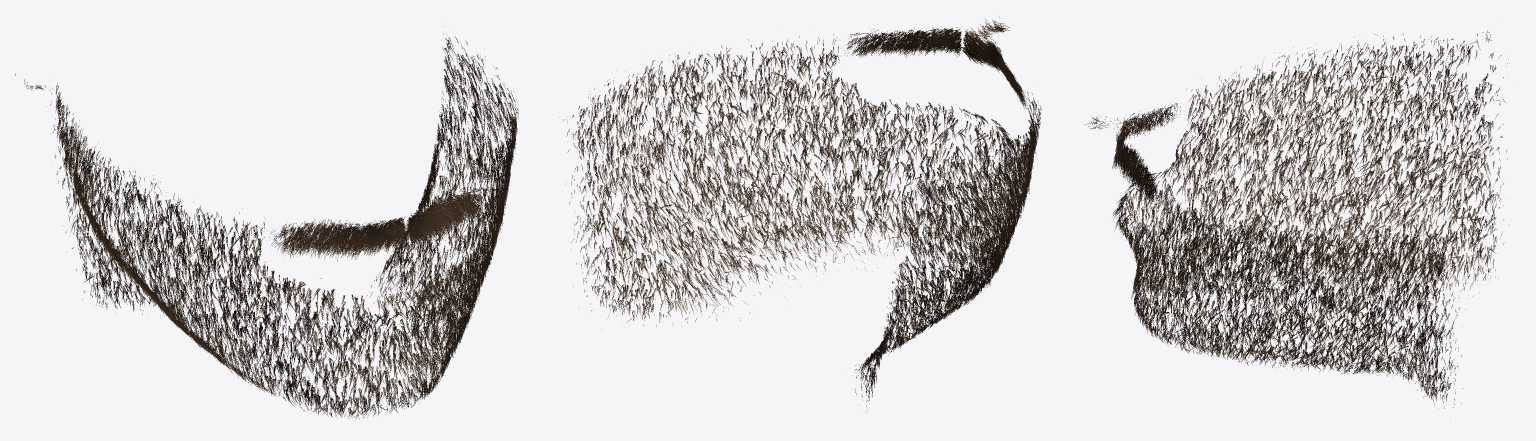
The model's file is full.glb.
The picture shows the model from 3 angles, left to right: view 1: azimuth 30°, elevation 25°; view 2: azimuth 150°, elevation 25°; view 3: azimuth 270°, elevation 25°; orthographic projection. The views are drawn at different scales.
Parts seen in each view (by area): view 1: beard, moustache; view 2: beard, moustache; view 3: beard, moustache.
Part boxes in pixels (box(x1,y1,x2,y2)): beard: box(15, 34, 518, 419); moustache: box(264, 188, 485, 261); beard: box(562, 34, 1041, 412); moustache: box(841, 17, 1027, 108); beard: box(1112, 30, 1509, 408); moustache: box(1085, 103, 1180, 207).
Bounding box in the file's own units: 0.8245 × 0.5367 × 0.8426.
1 material, 1 textured.
